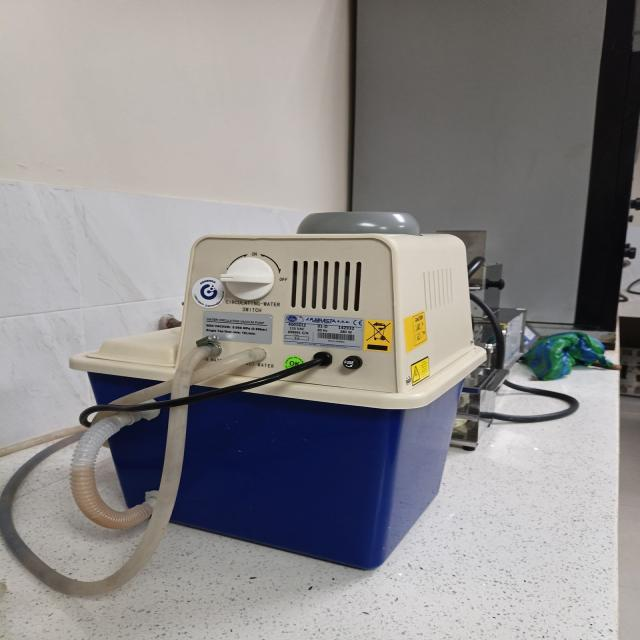Bomba de Vacio por Recirculacion de Agua: (3, 212, 485, 594)
